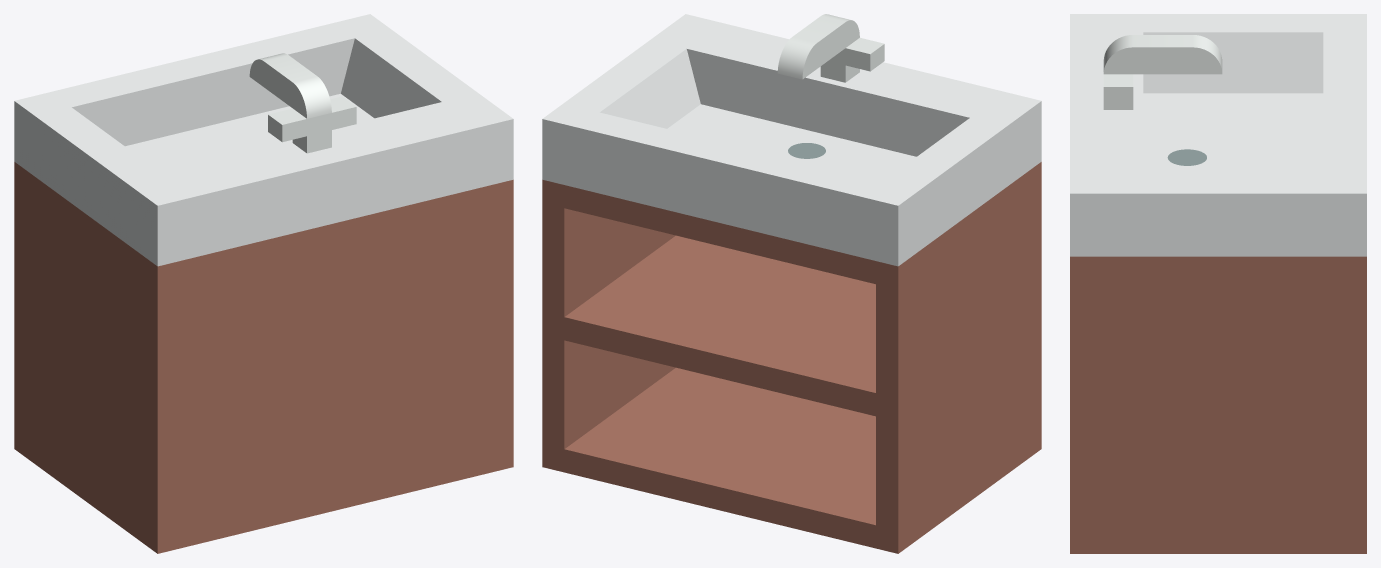
File: Furniture_BathroomCabinet.fbx
3 renders of one model, left to right at view 1: azimuth 30°, elevation 25°; view 2: azimuth 150°, elevation 25°; view 3: azimuth 270°, elevation 25°, orthographic. The views are drawn at different scales.
Visible parts, largest first — view 1: bathroomCabinetDrawer; view 2: bathroomCabinetDrawer; view 3: bathroomCabinetDrawer.
Boxes of the visible parts, bbox=[...] form: bathroomCabinetDrawer: bbox=[14, 14, 513, 553]; bathroomCabinetDrawer: bbox=[542, 14, 1041, 553]; bathroomCabinetDrawer: bbox=[1070, 14, 1366, 553].
Bounding box in the file's own units: 114 × 125 × 79.76.
